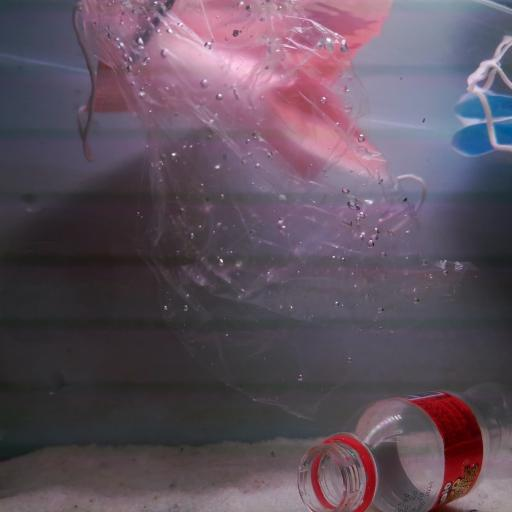mask: (64, 0, 427, 216), (459, 58, 512, 188)
plastic_bag: (77, 0, 488, 346)
plastic_bottle: (285, 391, 512, 512)
